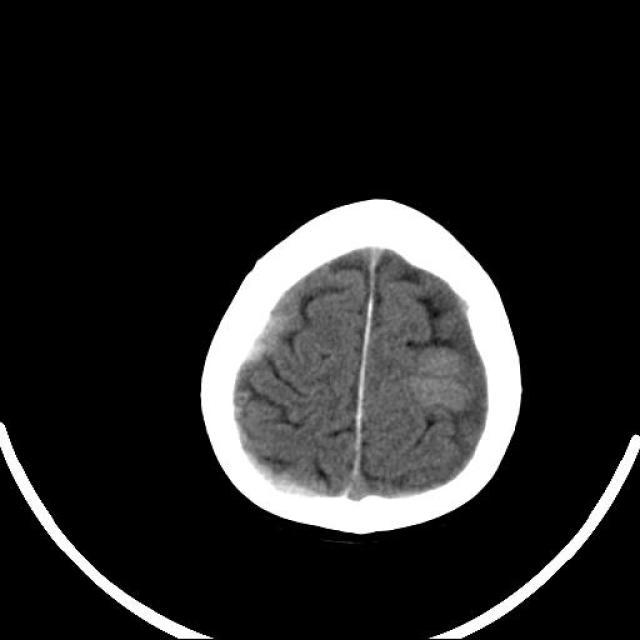Subarachnoid: (234, 298, 296, 377)
Subdural: (238, 445, 344, 503)
